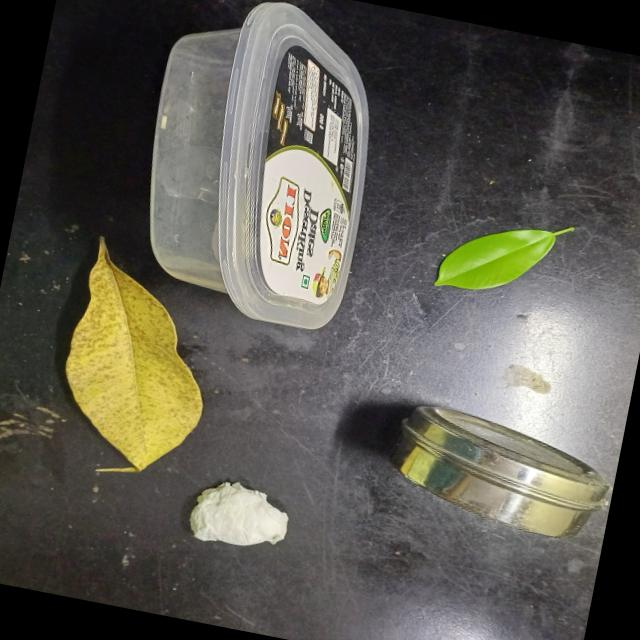Leaf-Bio: (44, 235, 233, 497), (429, 198, 577, 313)
Plastic-NonBio: (121, 0, 401, 339)
Steel-NonBio: (369, 394, 622, 550)
Tissue Paper-Bio: (180, 471, 300, 562)
